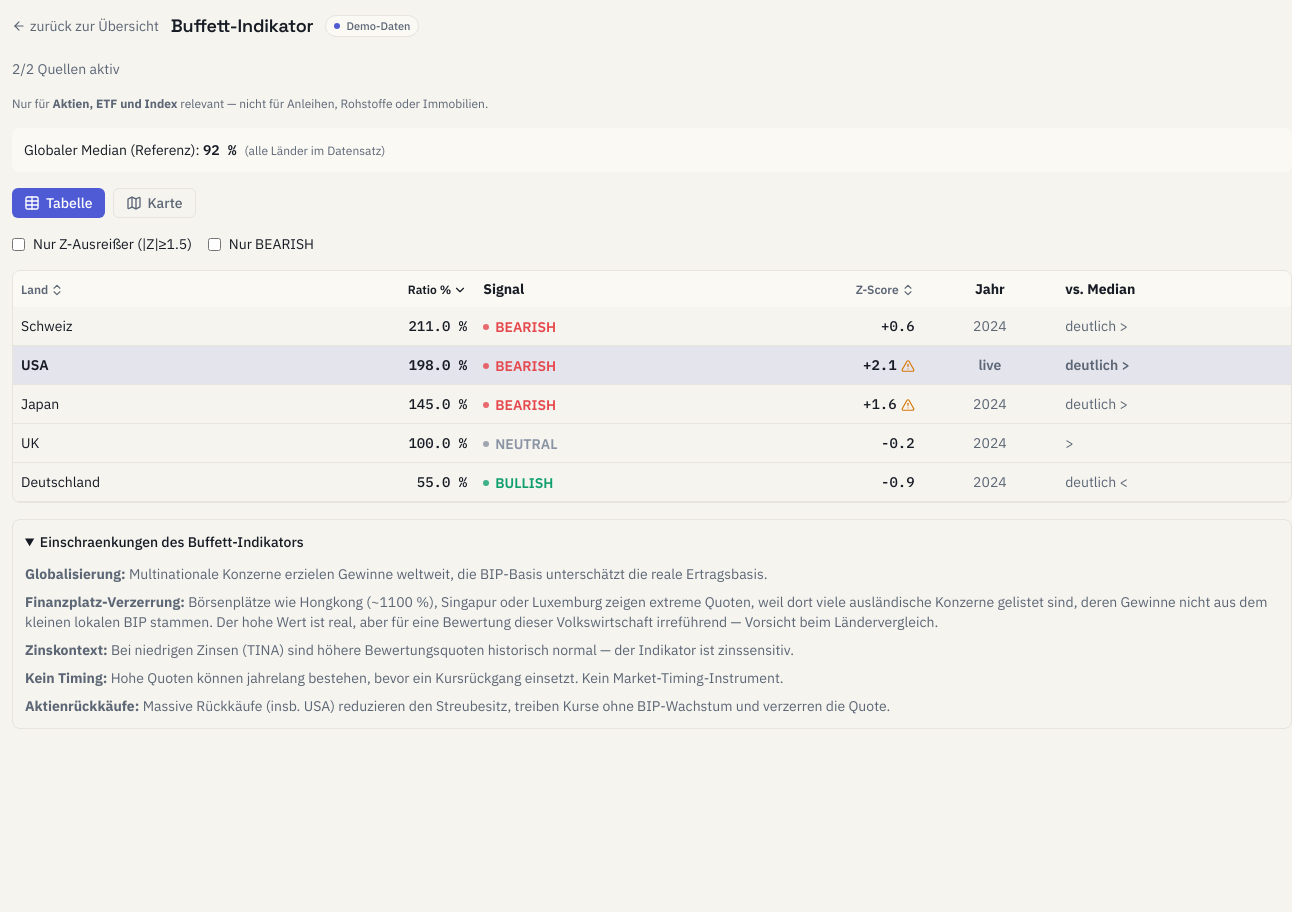
Test case: BuffettWidget (C1) › Filter 'nur Z-Ausreisser' behaelt nur USA und Japan (|Z|>=1.5)
Expected: the text "Deutschland" is shown, 13,462 -> 271,502
Step 1. Click the checkbox labelled "Nur Z-Ausreißer (|Z|≥1.5)" → click(18, 244), box 12,238 -> 25,250
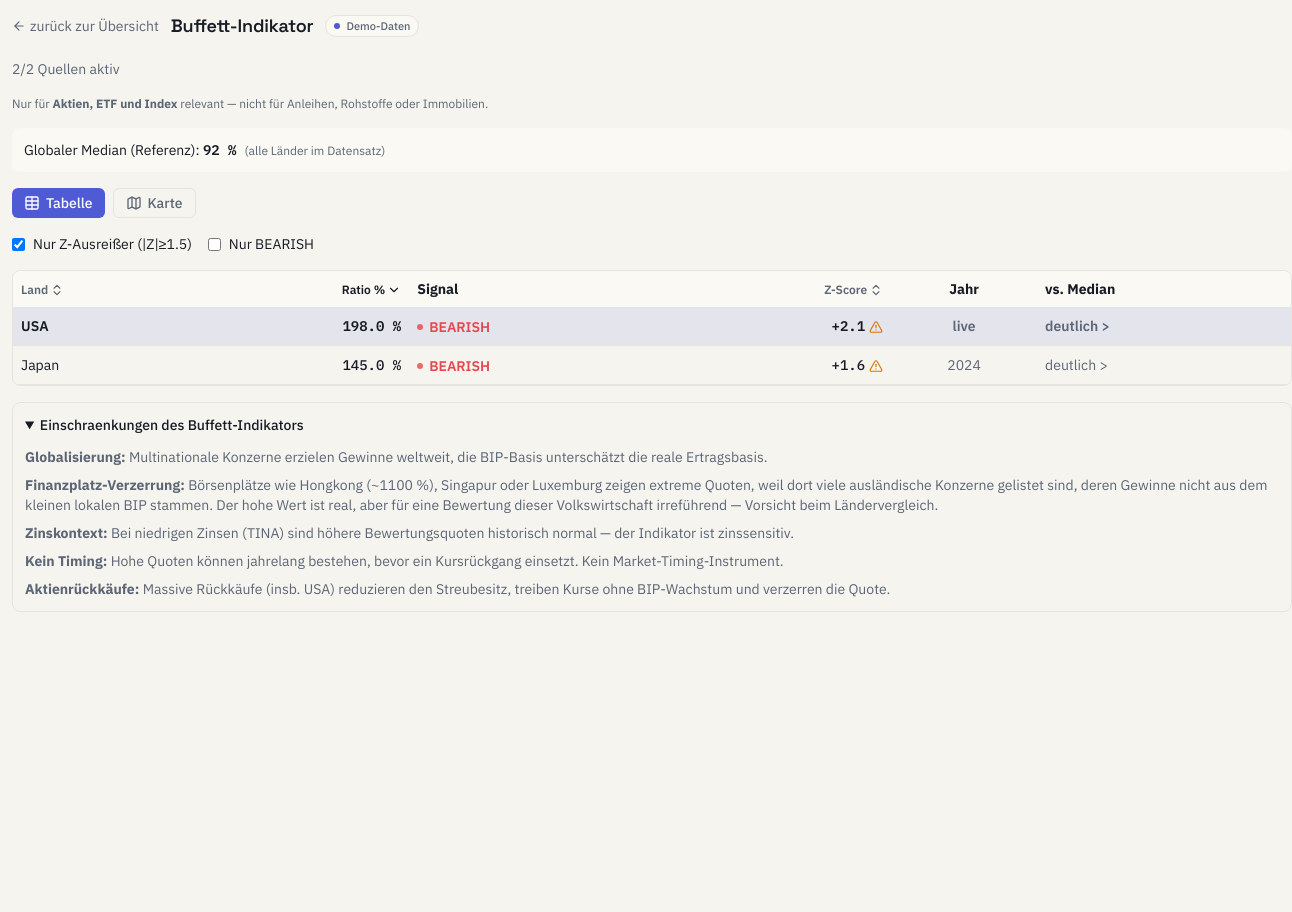
Expected: the text "USA" is shown, 13,307 -> 187,346
Now the text "Deutschland" is gone
Now the text "Schweiz" is gone
